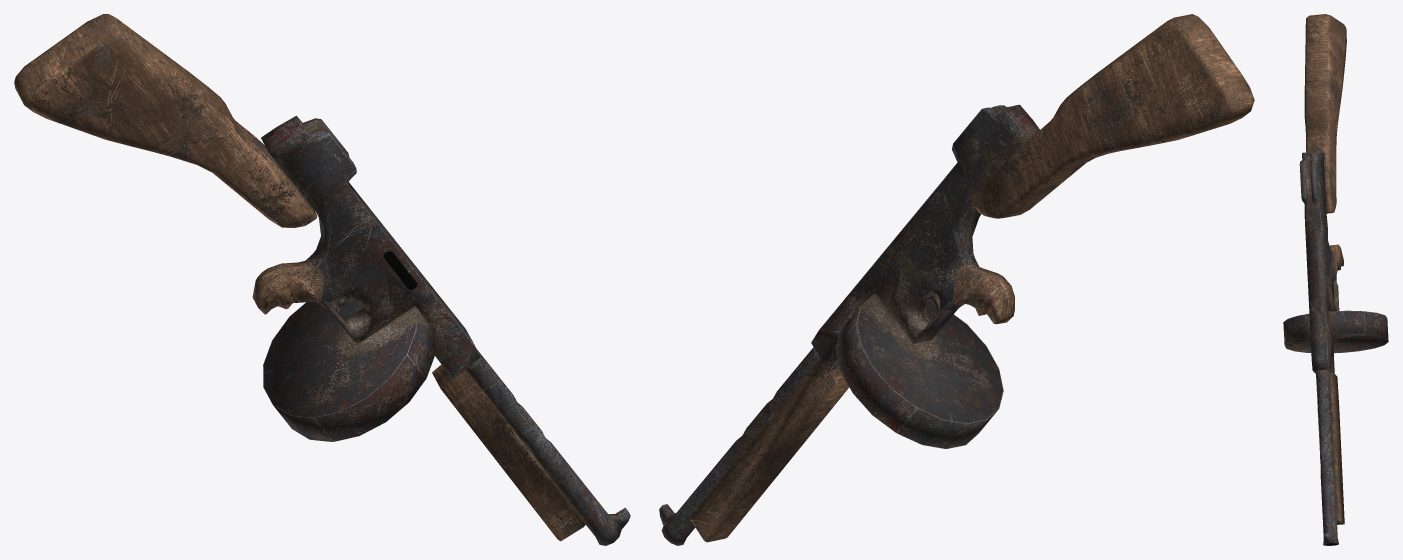
Rendered from Anim_disparar_ametralladora_objetos.0035.obj.
3 views of the same model, side by side, from view 1: azimuth 30°, elevation 25°; view 2: azimuth 150°, elevation 25°; view 3: azimuth 270°, elevation 25° (orthographic). The views are drawn at different scales.
Parts seen in each view (by area): view 1: Ametralladora1; view 2: Ametralladora1; view 3: Ametralladora1.
Boxes of the visible parts, bbox=[...] form: Ametralladora1: bbox=[14, 14, 630, 545]; Ametralladora1: bbox=[659, 14, 1254, 545]; Ametralladora1: bbox=[1283, 14, 1388, 545].
Size of the model in its own units: 4.54 by 4.69 by 1.16.
